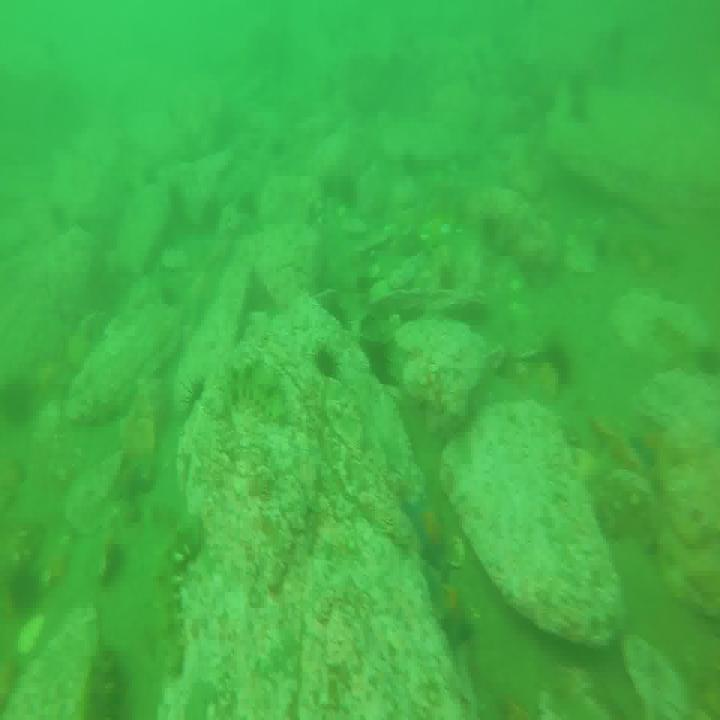echinus: (545, 337, 573, 392), (366, 341, 394, 390), (311, 343, 340, 390), (182, 377, 206, 422), (402, 223, 426, 260), (695, 340, 717, 380), (594, 225, 613, 264), (201, 198, 222, 233)
holothurian: (154, 514, 202, 671), (220, 361, 289, 417)
starfish: (403, 490, 453, 578), (428, 572, 472, 645), (629, 415, 666, 473)
